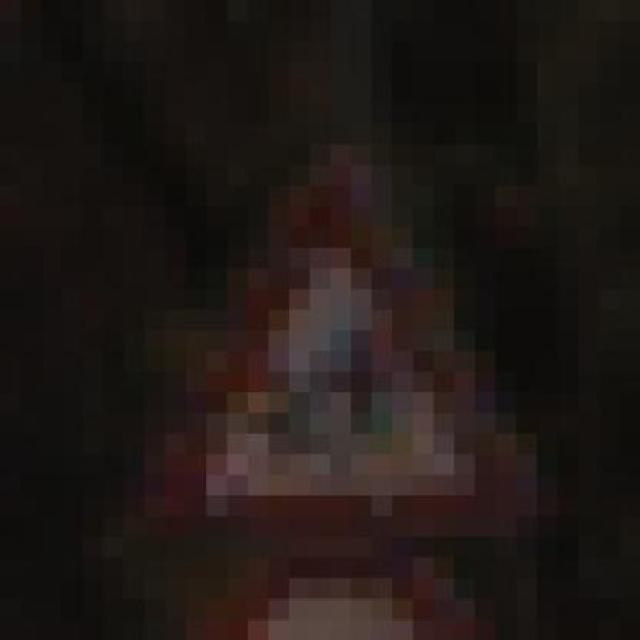Beware of children: (124, 124, 578, 558)
